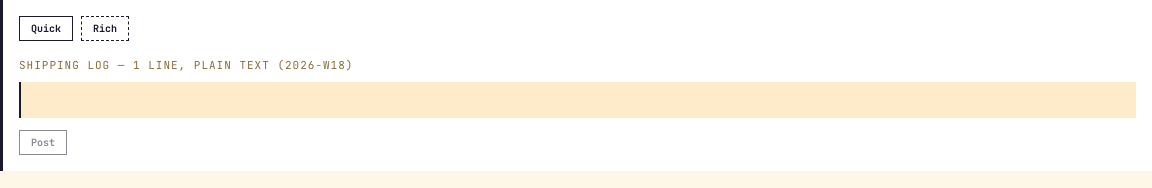
Scenario: StatusEditor › shows generic error message for non-conflict failures
This screenshot has width=1152, height=188.
Note: New posts default to Quick mode — use the shipping-log input
Type "x" into the field labelled "Shipping log — 1 line, plain text (2026-W18)" at (578, 100), box [19, 82, 1136, 118]
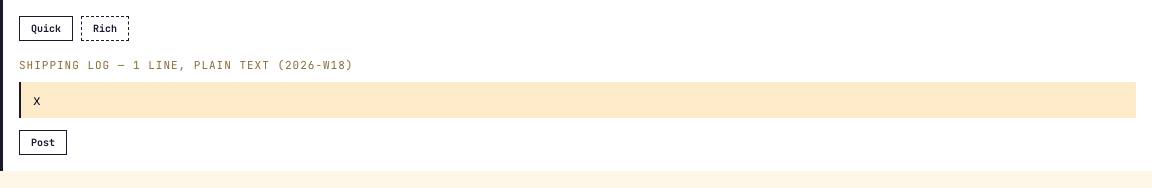
Click the button "Post" at (43, 142), box [19, 130, 67, 154]
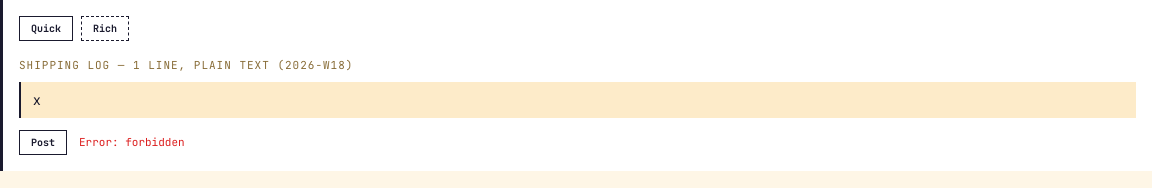
Expected: the text "Error: forbidden" is shown, [79, 134, 185, 150]
